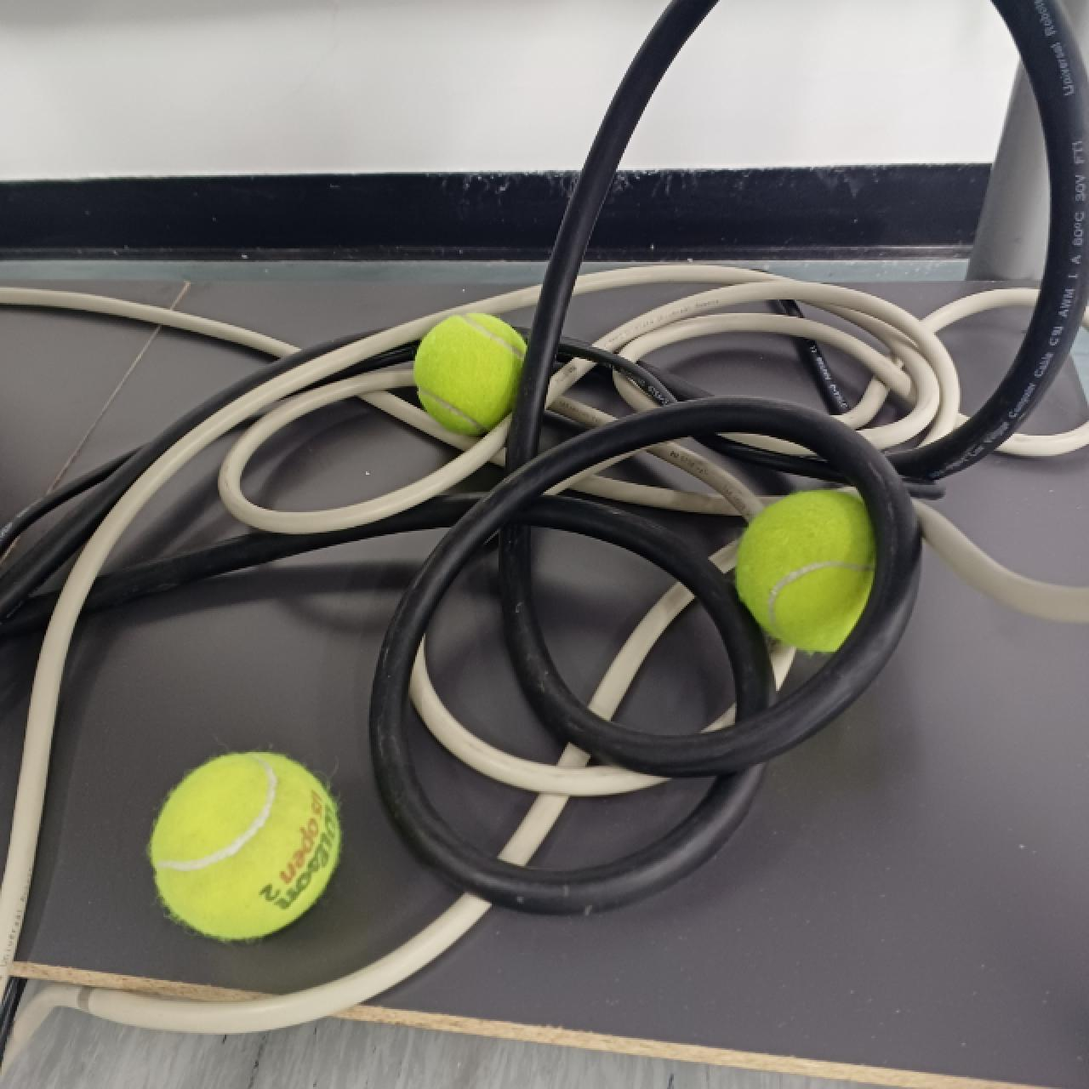tennis-ball: (145, 747, 350, 945), (736, 484, 905, 656), (407, 308, 540, 433)
